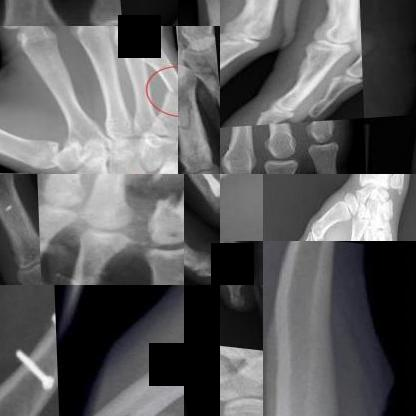fracture: (0, 285, 59, 415), (74, 392, 184, 415), (147, 189, 183, 246), (185, 53, 217, 111), (93, 174, 175, 195), (178, 91, 199, 143), (320, 0, 358, 21), (154, 76, 177, 110)
